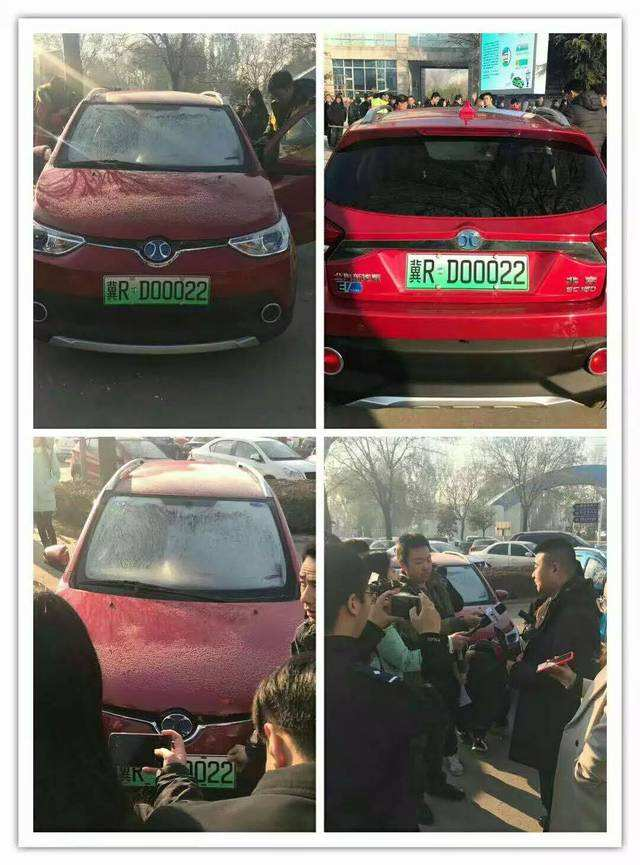plate: (396, 240, 545, 306), (93, 261, 220, 328)
